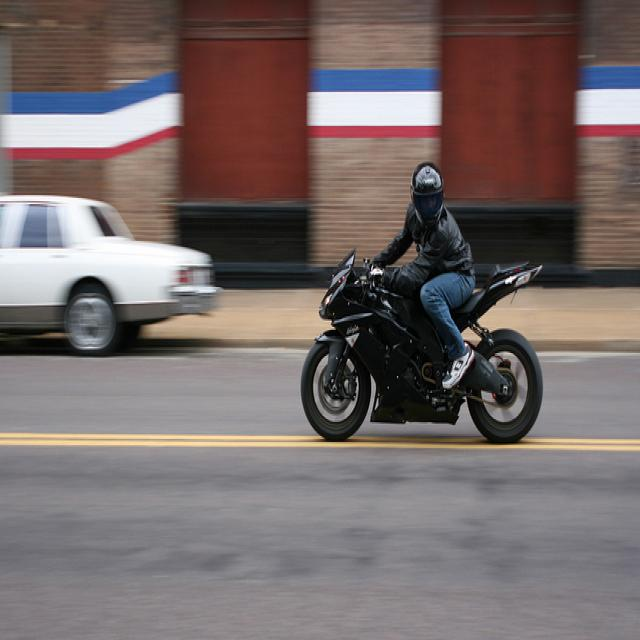motor: (301, 252, 544, 449)
